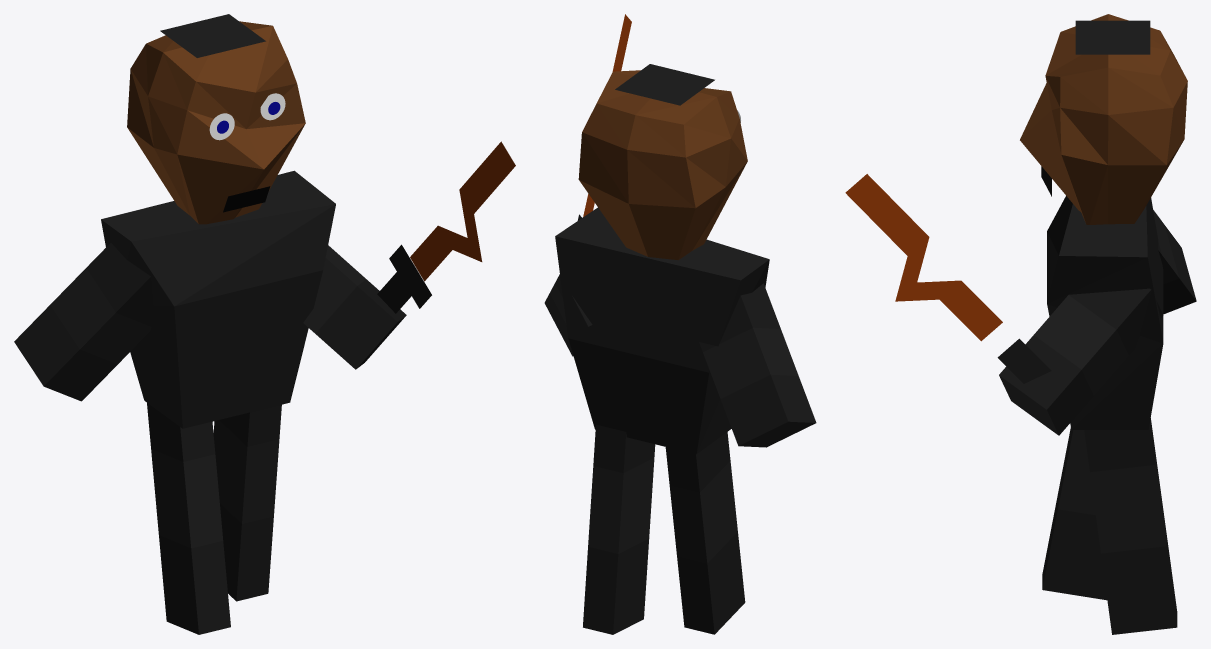
File: swordsman1f.obj
The picture shows the model from 3 angles, left to right: view 1: azimuth 30°, elevation 25°; view 2: azimuth 150°, elevation 25°; view 3: azimuth 270°, elevation 25°; orthographic projection. The views are drawn at different scales.
Parts seen in each view (by area): view 1: Cube.001, Cube, Cube.004, Cube.003, Cube.005, Cube.002, Plane.003_Plane.004, Plane.004_Plane.001, Plane.002_Plane.003, Plane.001_Plane.002; view 2: Cube.001, Cube, Cube.005, Cube.004, Cube.003, Plane.004_Plane.001, Cube.002, Plane.003_Plane.004; view 3: Cube, Cube.001, Cube.005, Cube.002, Cube.004, Plane.003_Plane.004, Plane.004_Plane.001, Cube.003, Plane.001_Plane.002.
Part boxes in pixels (x1,y1,x2,y2): Cube.001: (101, 170, 335, 428); Cube: (127, 21, 305, 224); Cube.004: (147, 403, 230, 634); Cube.003: (14, 243, 153, 401); Cube.005: (213, 404, 281, 601); Cube.002: (303, 245, 406, 369); Plane.003_Plane.004: (410, 141, 515, 281); Plane.004_Plane.001: (160, 14, 265, 57); Plane.002_Plane.003: (389, 244, 431, 308); Plane.001_Plane.002: (377, 272, 413, 313); Cube.001: (555, 207, 769, 454); Cube: (578, 70, 747, 260); Cube.005: (583, 424, 655, 634); Cube.004: (665, 432, 745, 634); Cube.003: (699, 283, 816, 447); Plane.004_Plane.001: (615, 64, 714, 105); Cube.002: (544, 274, 592, 356); Plane.003_Plane.004: (583, 14, 631, 216); Cube: (1020, 14, 1187, 224); Cube.001: (1047, 196, 1163, 429); Cube.005: (1084, 418, 1177, 634); Cube.002: (999, 288, 1163, 435); Cube.004: (1042, 427, 1107, 600); Plane.003_Plane.004: (845, 174, 1002, 341); Plane.004_Plane.001: (1075, 20, 1150, 54); Cube.003: (1153, 210, 1196, 314); Plane.001_Plane.002: (997, 338, 1051, 383).
Bounding box in the file's own units: 3.61 × 5.9 × 3.29.
